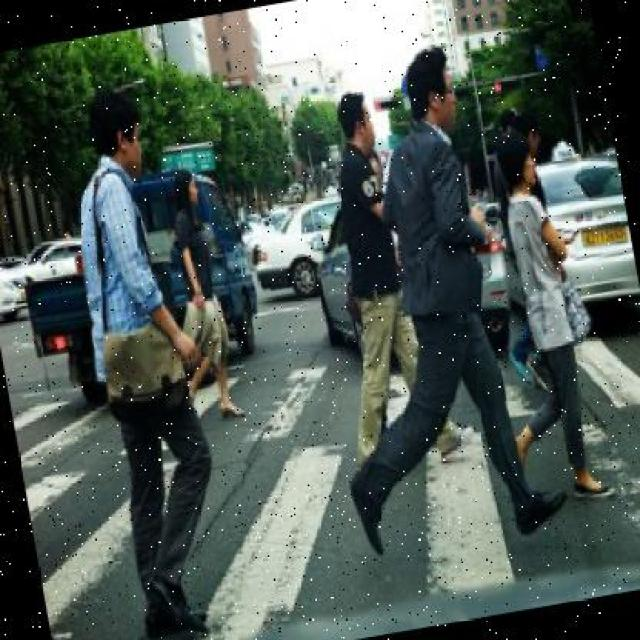obstacle: (278, 31, 560, 558), (55, 91, 242, 638), (298, 86, 464, 474), (469, 128, 616, 510), (148, 160, 244, 422)
